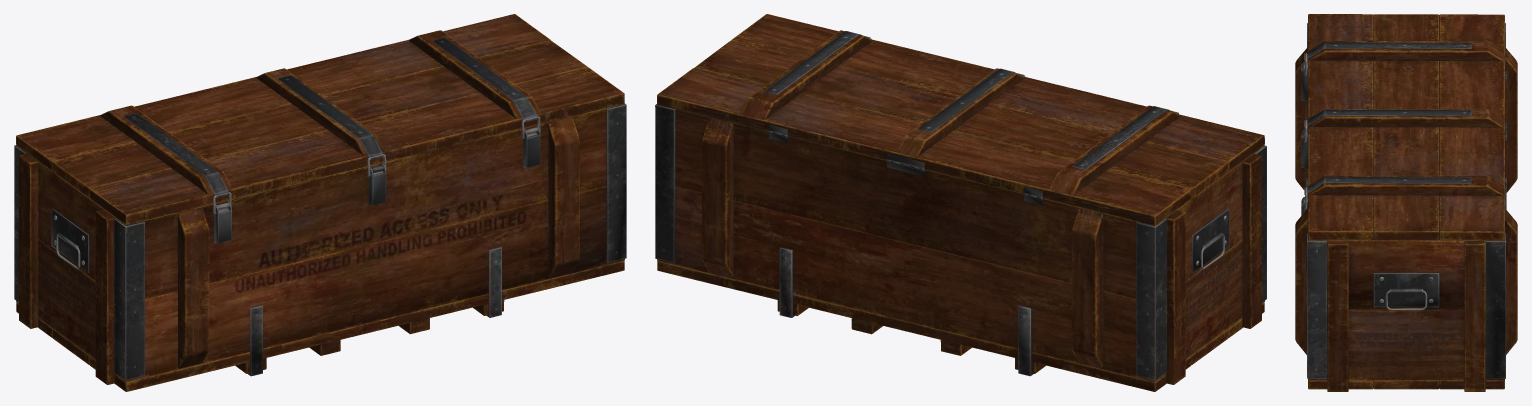
Rendered from wooden_military_crate.glb.
The picture shows the model from 3 angles, left to right: view 1: azimuth 30°, elevation 25°; view 2: azimuth 150°, elevation 25°; view 3: azimuth 270°, elevation 25°; orthographic projection. The views are drawn at different scales.
Visible parts, largest first — view 1: wooden_military_crate, wooden_military_crate_lid; view 2: wooden_military_crate, wooden_military_crate_lid; view 3: wooden_military_crate_lid, wooden_military_crate.
Part boxes in pixels (x1,y1,x2,y2): wooden_military_crate: [14, 103, 626, 391]; wooden_military_crate_lid: [16, 14, 624, 224]; wooden_military_crate: [655, 104, 1266, 391]; wooden_military_crate_lid: [657, 14, 1264, 225]; wooden_military_crate_lid: [1304, 14, 1506, 240]; wooden_military_crate: [1295, 23, 1517, 391].
Size of the model in its own units: 1.24 by 0.4647 by 0.5198.
Materials: 1 (1 with a texture image).
